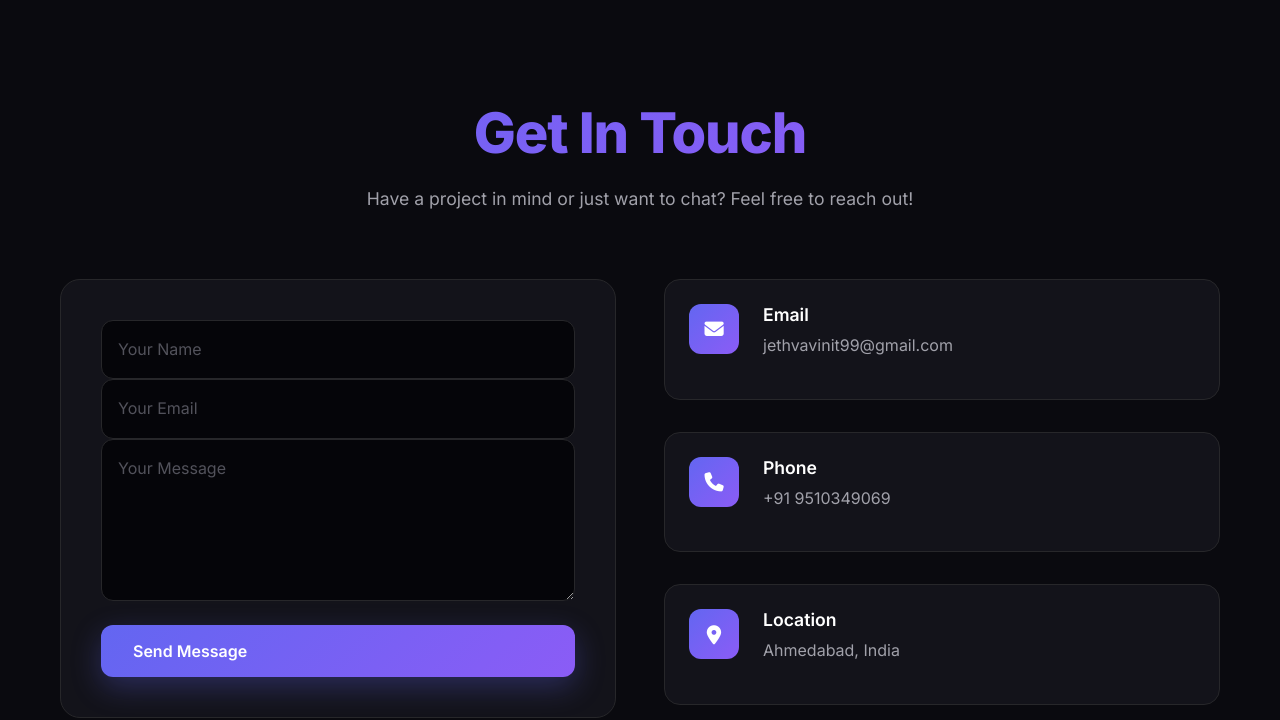
Test: Contact Component › displays loading state during submission
Type "John Doe" into the field with placeholder "Your Name" at (338, 350), box [101,320,575,379]
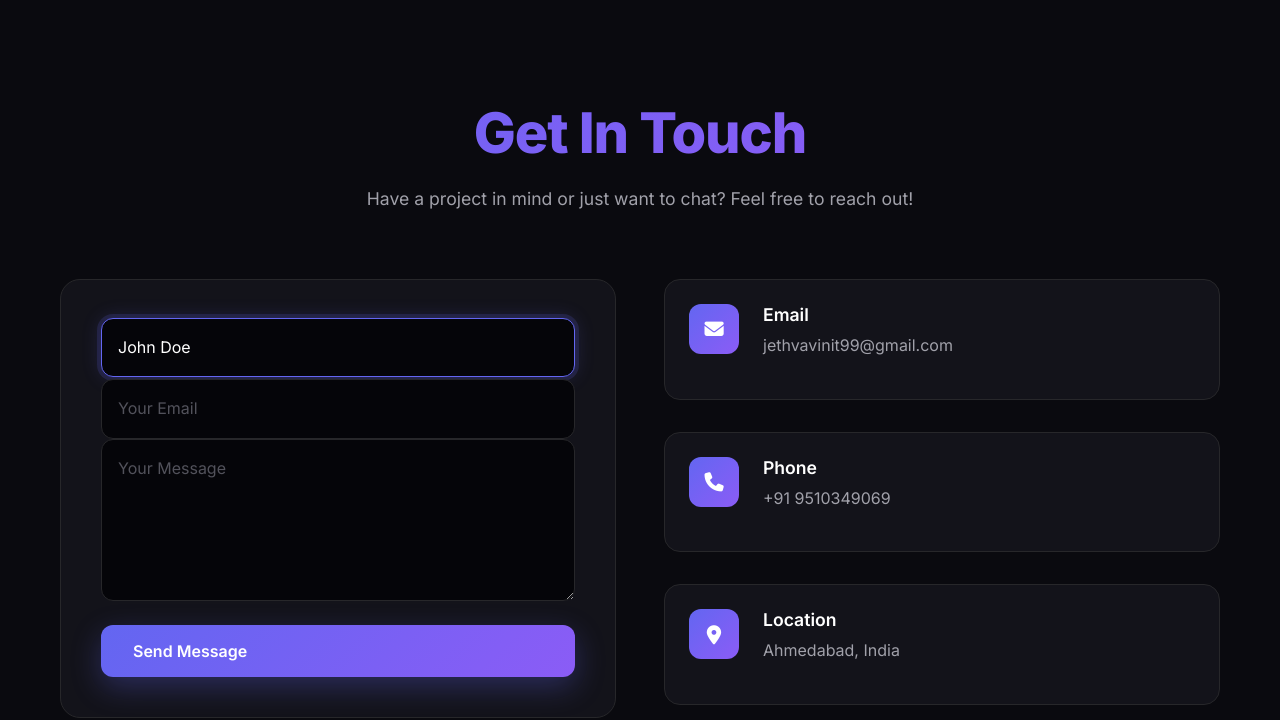
Type "john@example.com" into the field with placeholder "Your Email" at (338, 409), box [101,379,575,439]
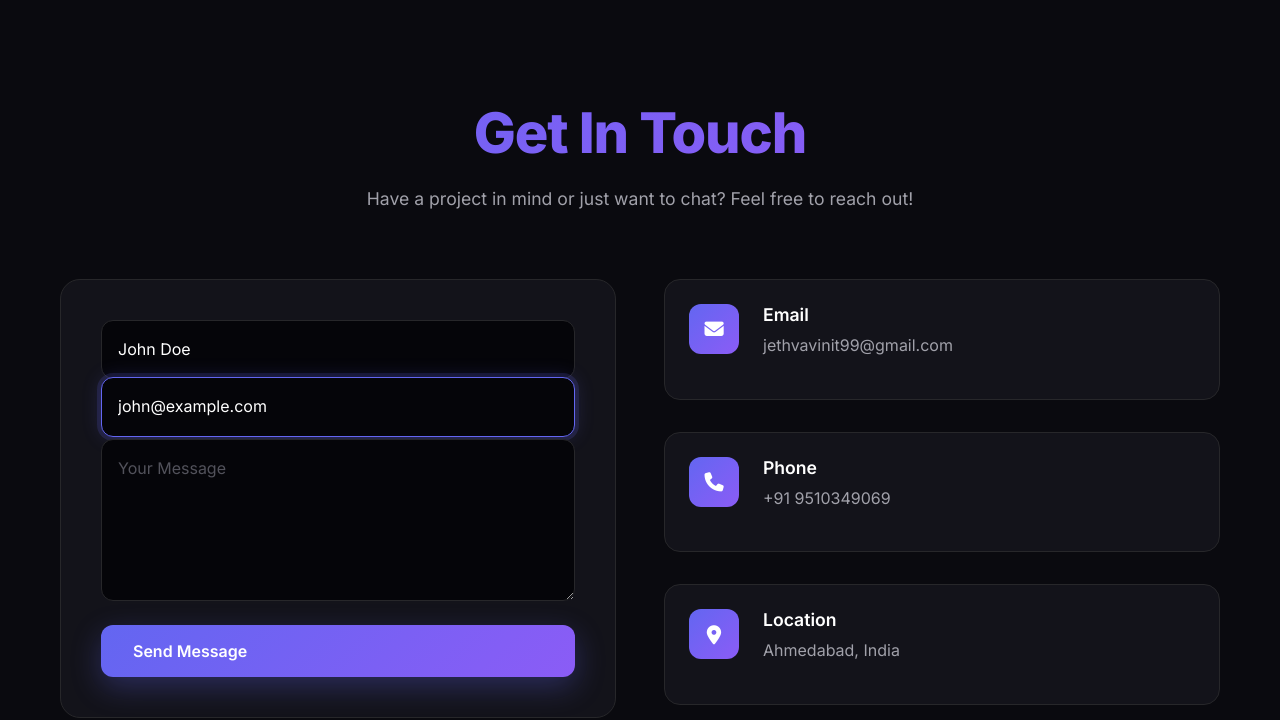
Type "Test message" into the text box with placeholder "Your Message" at (338, 520), box [101,439,575,601]
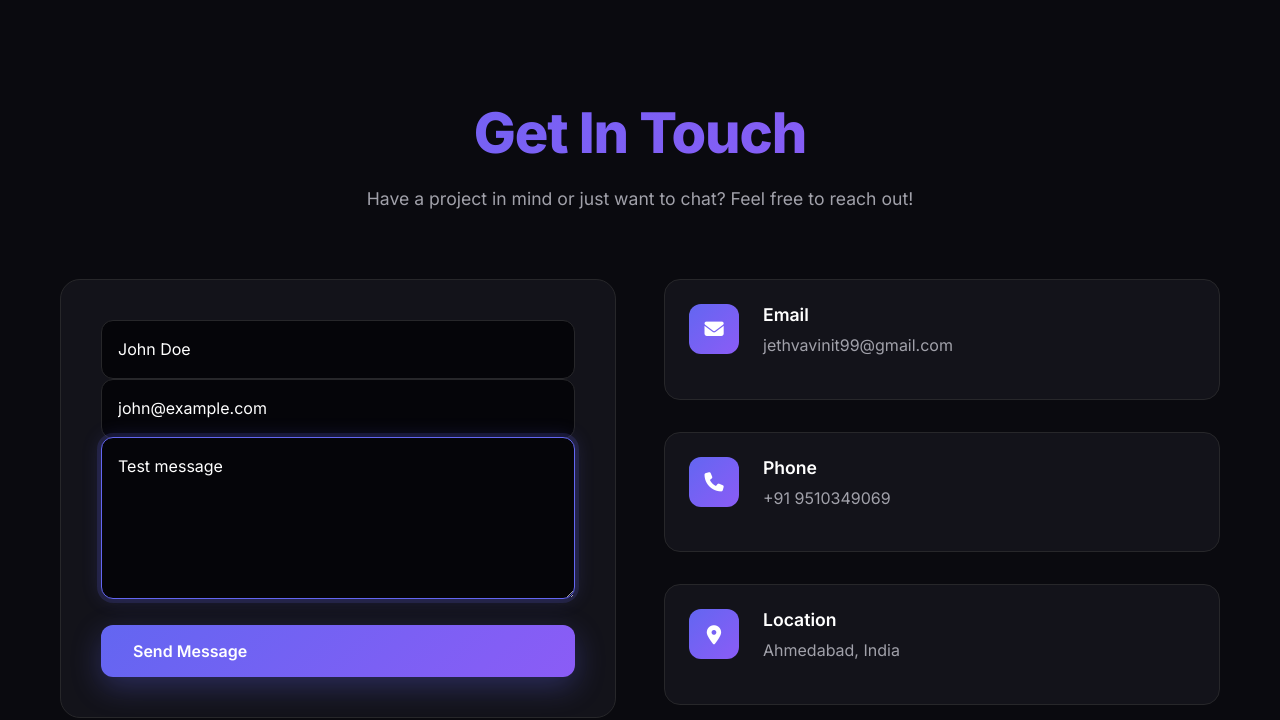
Click the button "Send Message" at (190, 651), box [101,625,575,677]
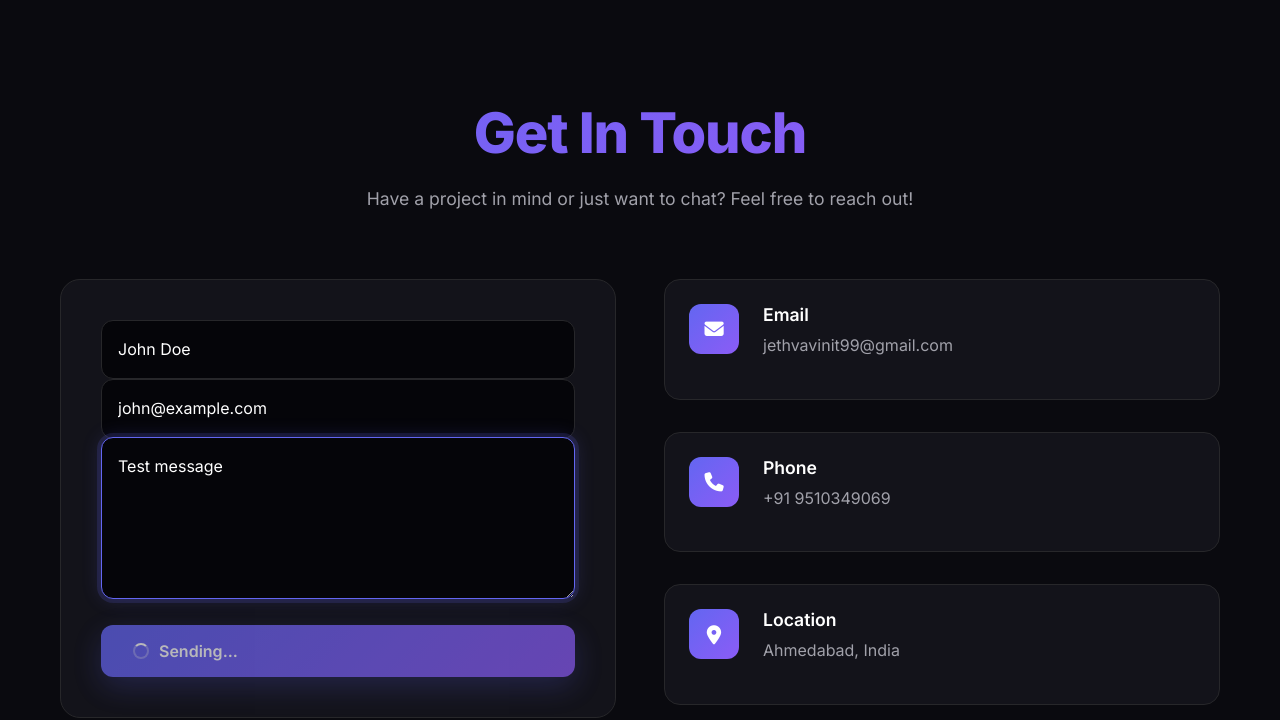
Expected: the button is disabled, [101,625,575,677]
